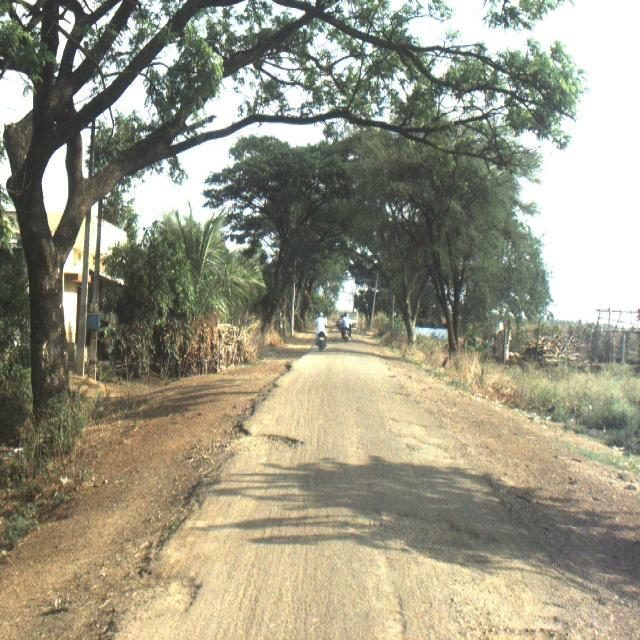Pothole: (148, 548, 204, 621), (266, 435, 309, 453)
